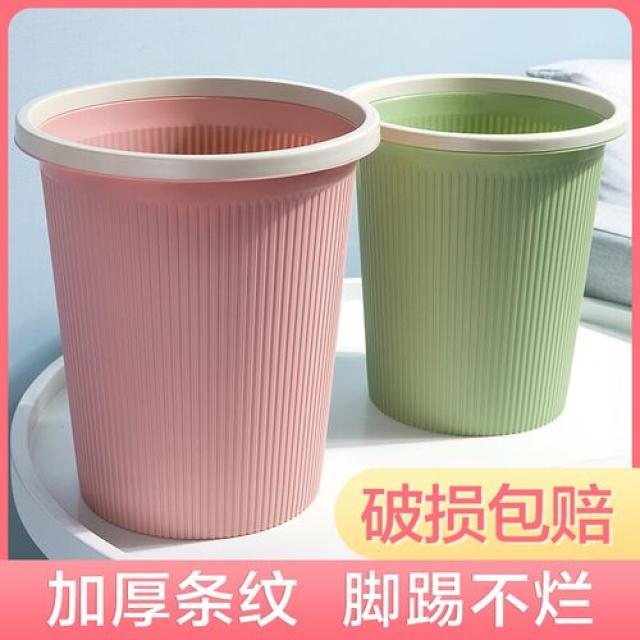dustbin: (13, 71, 384, 543), (337, 66, 633, 441)
